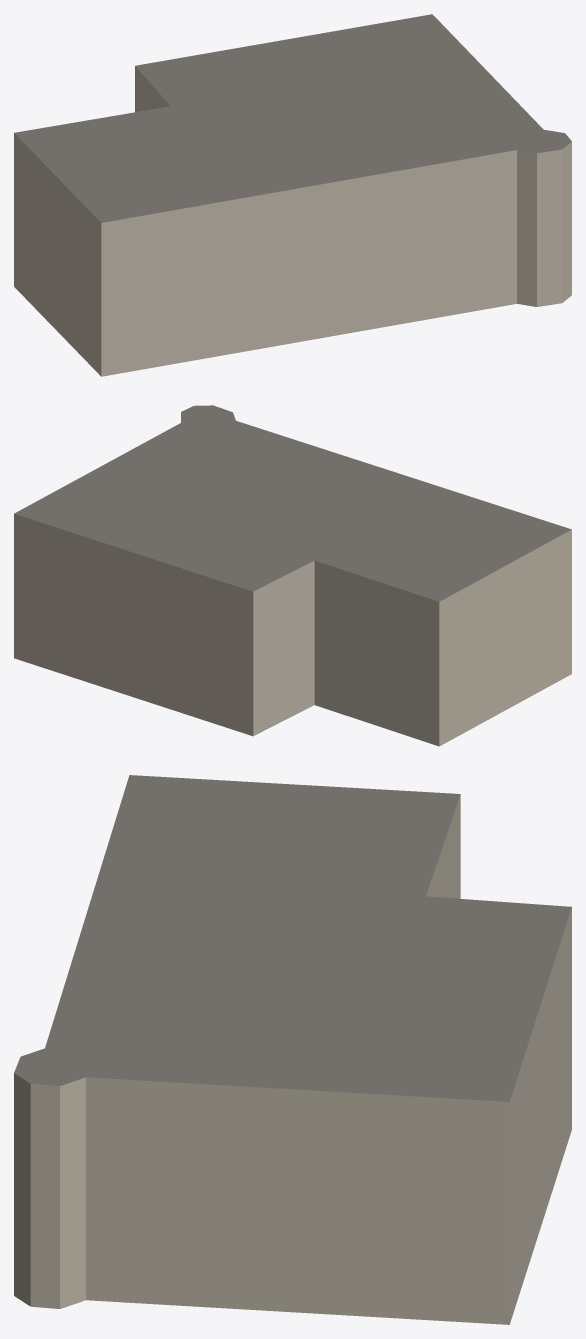
The picture shows the model from 3 angles, top to bottom: view 1: azimuth 30°, elevation 25°; view 2: azimuth 150°, elevation 25°; view 3: azimuth 270°, elevation 25°; orthographic projection. The views are drawn at different scales.
Parts seen in each view (by area): view 1: HP-w494081643; view 2: HP-w494081643; view 3: HP-w494081643.
Part boxes in pixels (x1,y1,x2,y2): HP-w494081643: [14, 14, 571, 376]; HP-w494081643: [14, 405, 571, 746]; HP-w494081643: [14, 775, 571, 1324].
Bounding box in the file's own units: 37.74 × 12 × 27.22.
